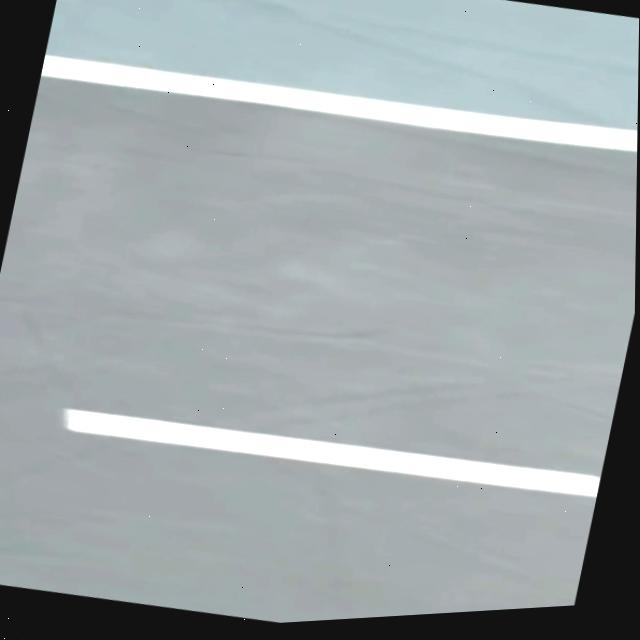center: (64, 408, 600, 496)
left: (40, 55, 638, 150)
